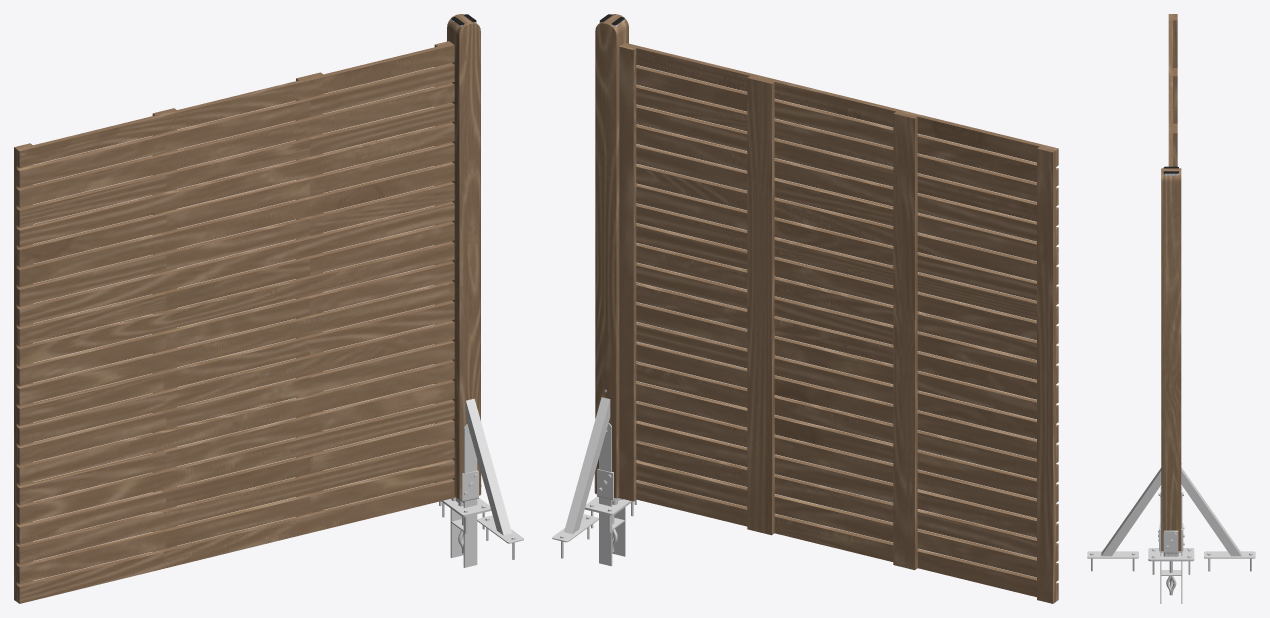
Rendered from valentinaCombo13.glb.
The picture shows the model from 3 angles, left to right: view 1: azimuth 30°, elevation 25°; view 2: azimuth 150°, elevation 25°; view 3: azimuth 270°, elevation 25°; orthographic projection. The views are drawn at different scales.
Visible parts, largest first — view 1: Valentina180180, Valentin 120180, stubić Sina, Valentina60180, sturmanker-right-front, Nosač Stubića Sina; view 2: Valentina180180, Valentin 120180, Valentina60180, stubić Sina, sturmanker-right-rear, Nosač Stubića Sina; view 3: stubić Sina, sturmanker-right-rear, sturmanker-right-front, Valentina180180, post-root-right, Valentin 120180, Nosač Stubića Sina, NosacBoth.
Boxes of the visible parts, bbox=[...] form: Valentina180180: bbox=[14, 41, 455, 603]; Valentin 120180: bbox=[158, 41, 454, 566]; stubić Sina: bbox=[447, 14, 480, 499]; Valentina60180: bbox=[306, 42, 454, 523]; sturmanker-right-front: bbox=[466, 398, 523, 559]; Nosač Stubića Sina: bbox=[450, 424, 477, 567]; Valentina180180: bbox=[618, 44, 1058, 603]; Valentin 120180: bbox=[619, 42, 914, 568]; Valentina60180: bbox=[619, 44, 764, 532]; stubić Sina: bbox=[595, 14, 628, 498]; sturmanker-right-rear: bbox=[552, 389, 610, 558]; Nosač Stubića Sina: bbox=[599, 423, 625, 566]; stubić Sina: bbox=[1161, 168, 1181, 550]; sturmanker-right-rear: bbox=[1181, 462, 1255, 571]; sturmanker-right-front: bbox=[1087, 468, 1161, 571]; Valentina180180: bbox=[1168, 14, 1177, 166]; post-root-right: bbox=[1148, 548, 1194, 574]; Valentin 120180: bbox=[1168, 70, 1177, 166]; Nosač Stubića Sina: bbox=[1158, 486, 1183, 603]; NosacBoth: bbox=[1163, 530, 1178, 588].
Bounding box in the file's own units: 1.91 × 2.14 × 0.7571.
10 materials, 2 textured.
